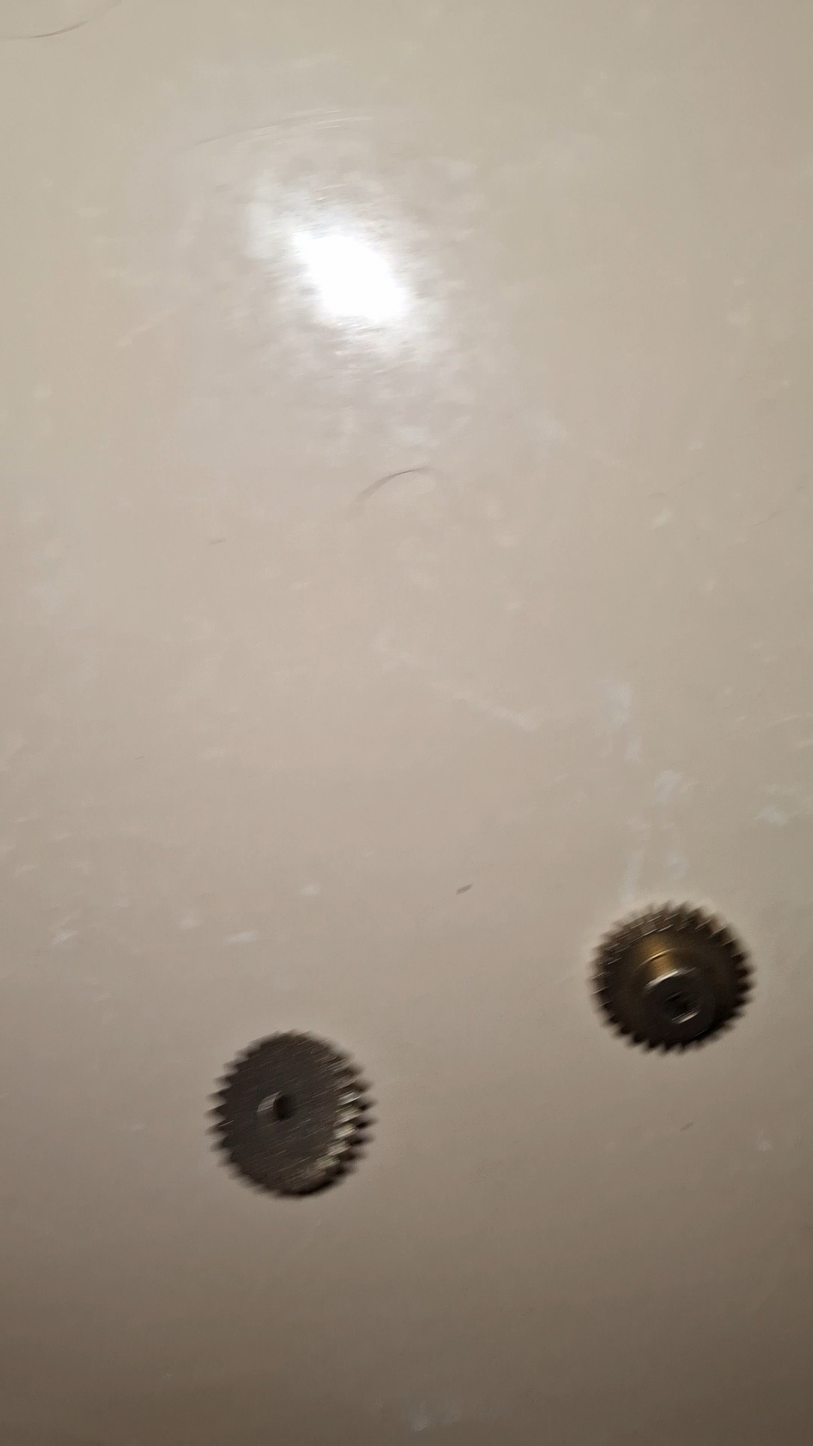spur gear: (212, 1033, 368, 1195), (594, 905, 750, 1049)
